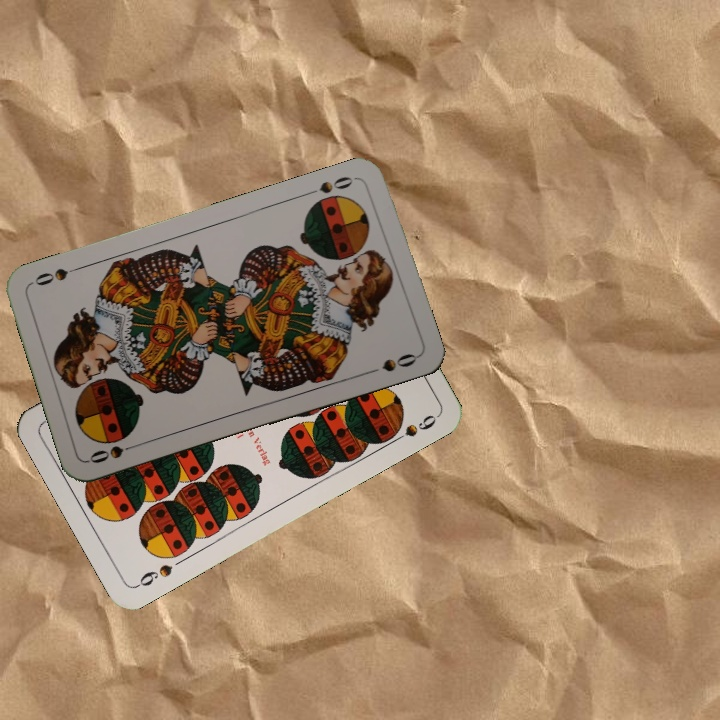S9: (132, 560, 175, 591)
SO: (85, 438, 143, 466), (304, 172, 363, 198)
